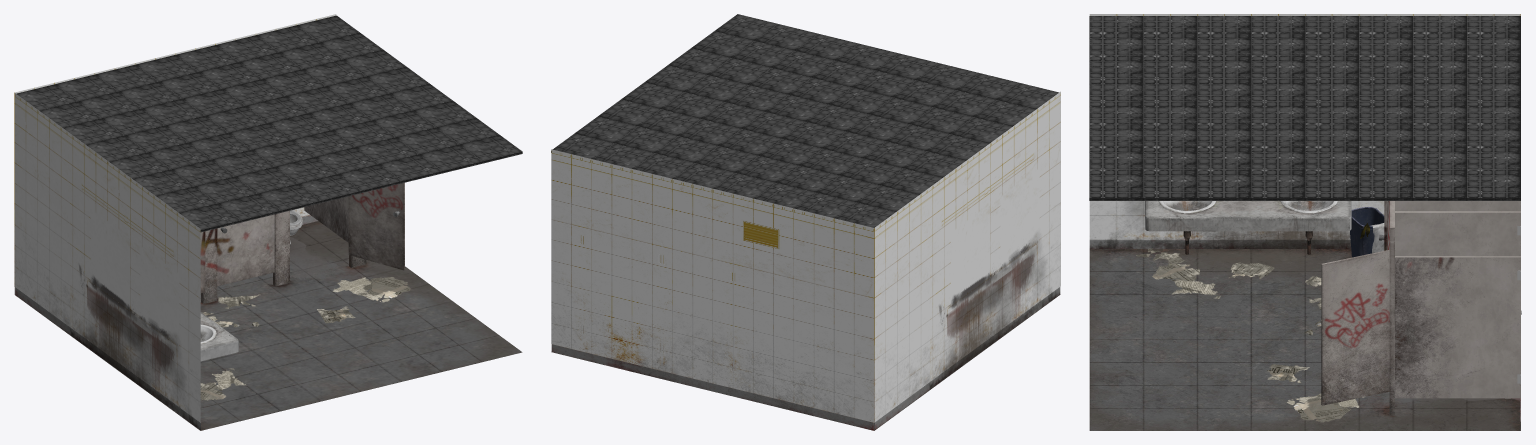
File: washroom.glb
The picture shows the model from 3 angles, left to right: view 1: azimuth 30°, elevation 25°; view 2: azimuth 150°, elevation 25°; view 3: azimuth 270°, elevation 25°; orthographic projection. The views are drawn at different scales.
Parts seen in each view (by area): view 1: Object_6, Object_4, Object_12, Object_11, Object_10, Object_13, Object_3, Object_5, Object_8, Object_2, Object_7; view 2: Object_7, Object_6, Object_12, Object_10, Object_11, Object_13, Object_4; view 3: Object_4, Object_2, Object_12, Object_11, Object_10, Object_13, Object_3, Object_6, Object_8, Object_5.
Part boxes in pixels (x1,y1,x2,y2): Object_6: [14, 93, 200, 430]; Object_4: [15, 221, 522, 430]; Object_12: [156, 117, 522, 232]; Object_11: [16, 15, 482, 173]; Object_10: [63, 49, 429, 161]; Object_13: [109, 83, 475, 195]; Object_3: [200, 182, 404, 303]; Object_5: [174, 237, 410, 411]; Object_8: [200, 210, 302, 361]; Object_2: [304, 196, 348, 242]; Object_7: [14, 14, 336, 294]; Object_7: [551, 149, 874, 430]; Object_6: [873, 91, 1060, 430]; Object_12: [691, 14, 1058, 126]; Object_10: [598, 82, 965, 194]; Object_11: [551, 24, 918, 227]; Object_13: [645, 48, 1012, 160]; Object_4: [551, 294, 1060, 430]; Object_4: [1089, 249, 1520, 430]; Object_2: [1395, 201, 1520, 398]; Object_12: [1089, 16, 1251, 200]; Object_11: [1089, 16, 1520, 200]; Object_10: [1305, 16, 1466, 200]; Object_13: [1197, 16, 1305, 200]; Object_3: [1321, 201, 1394, 415]; Object_6: [1089, 14, 1520, 248]; Object_8: [1145, 201, 1510, 398]; Object_5: [1136, 207, 1521, 422].
Bounding box in the file's own units: 5005 × 3055 × 5007.
9 materials, 9 textured.
